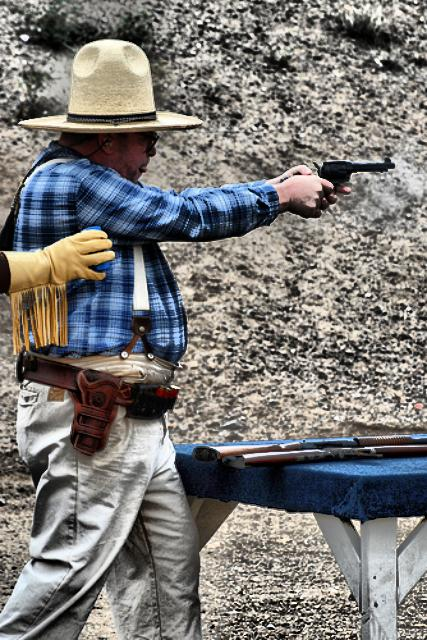pistol: (315, 155, 393, 207)
